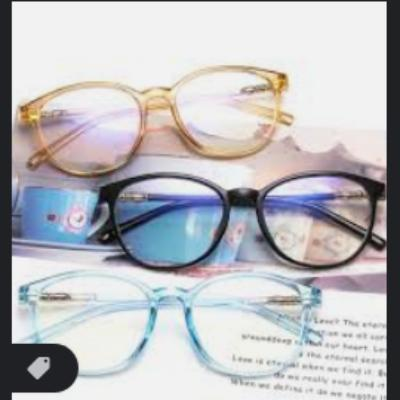glasses: (17, 268, 324, 385), (19, 62, 296, 183), (94, 169, 386, 275)
